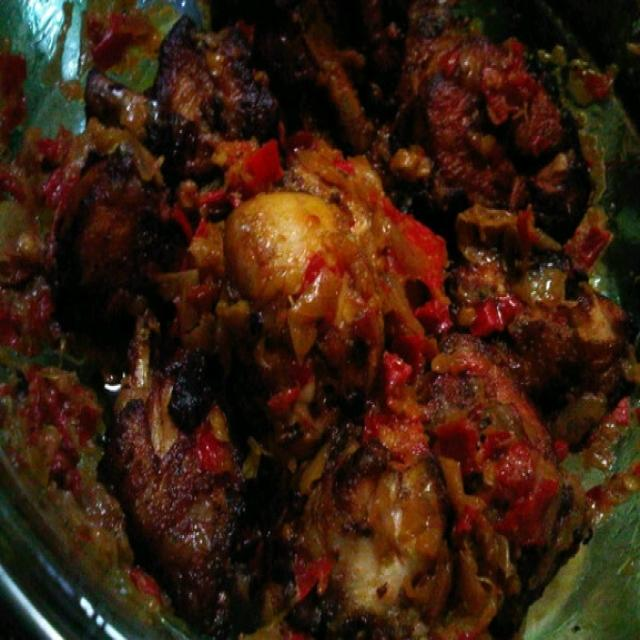鸡肉料理 含炸鸡: (11, 10, 619, 615)
